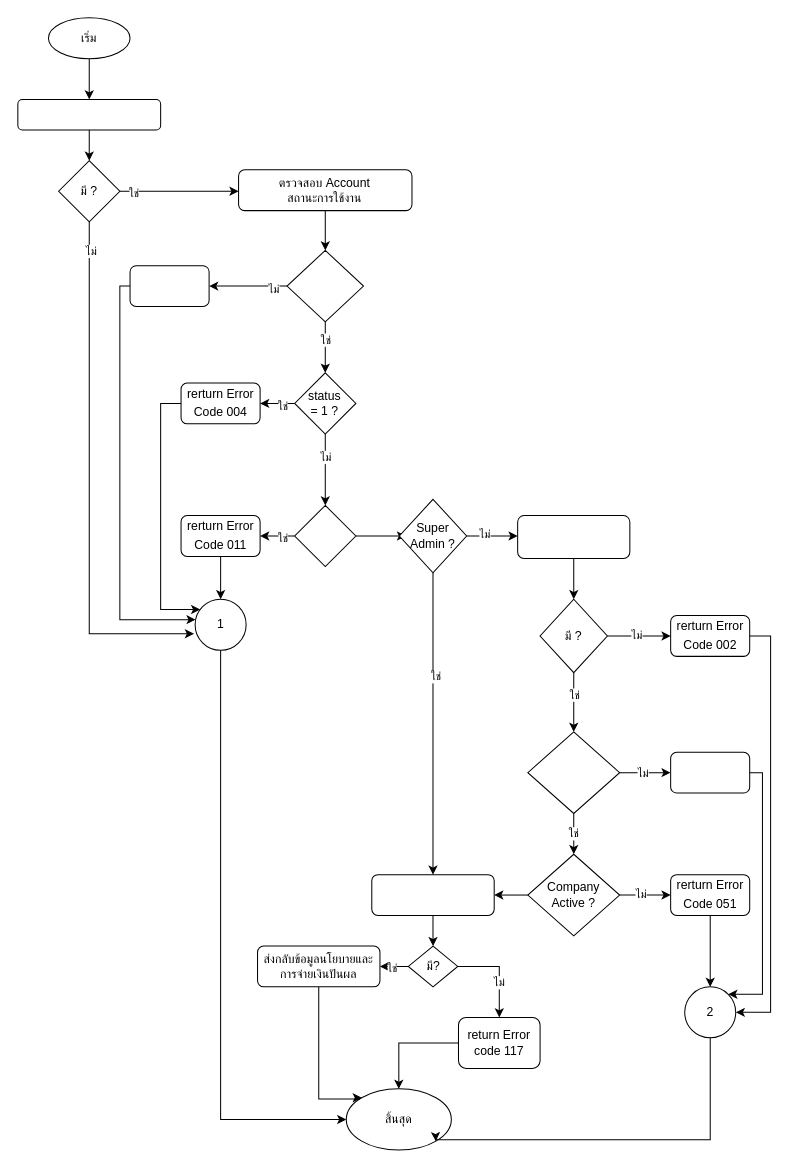
The diagram is 797 pixels wide and 1168 high, and some of its shapes have lost their labels. The shapes that lost their labels are listed below. From the top down, each one's centre as x and y in pixels, then its label:
the point at 89,114: ตรวจสอบสิทธิ์การใช้งาน
the point at 169,286: rerturn Error Code 001
the point at 325,285: มีใน ระบบ ?
the point at 325,535: Locked = 1 ?
the point at 573,536: ตรวจสอบสิทธิ์การใช้งาน Company นี้ไหม
the point at 573,772: Company มีในระบบ ไหม ?
the point at 710,772: rerturn Error Code 007
the point at 432,894: ดึงข้อมูลนโยบายและการจ่ายเงินปันผล
